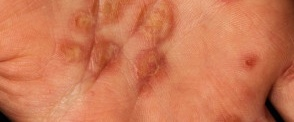SJS-TEN: (45, 0, 294, 122)
